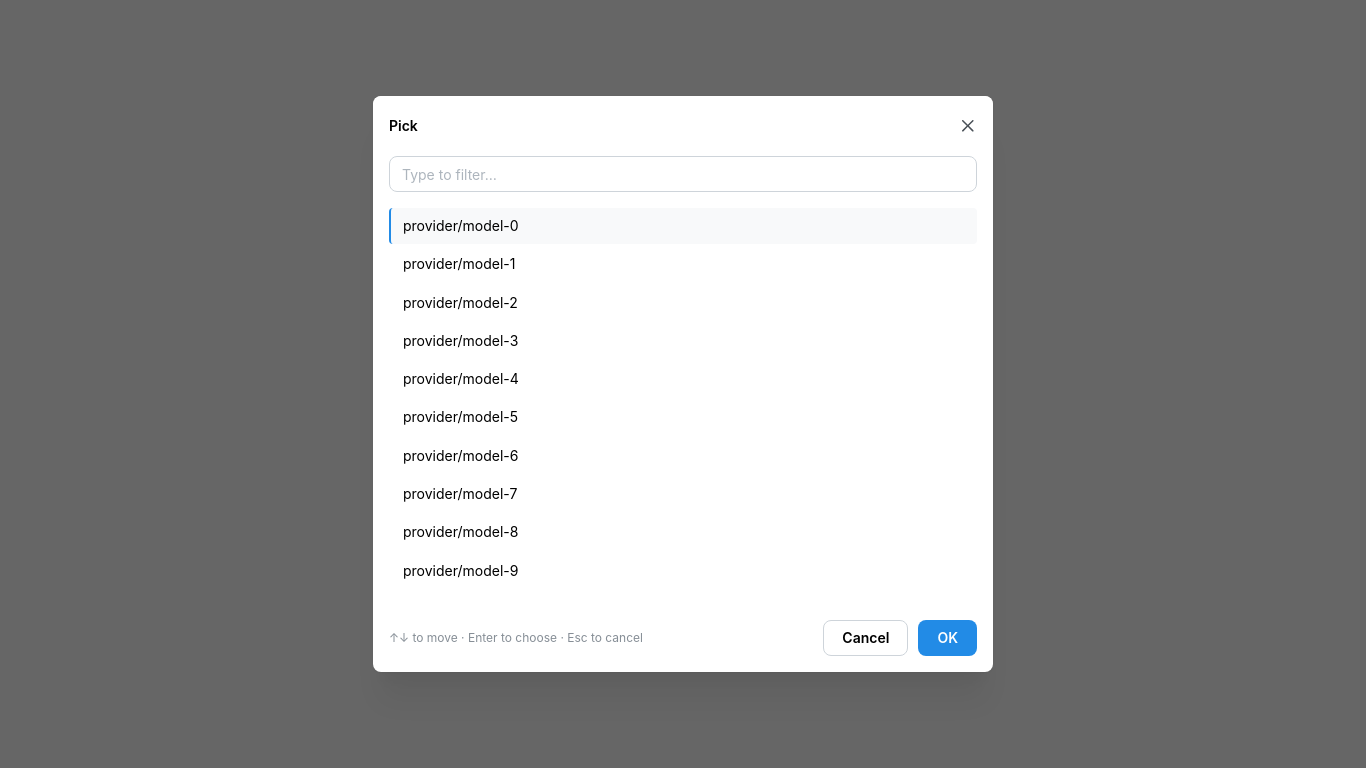
Test case: PromptModal option filter › reports when nothing matches and cannot submit
The image size is (1366, 768).
Type "nope" into the field named "Filter options" at (683,174), box x1=389 y1=156 x2=977 y2=192
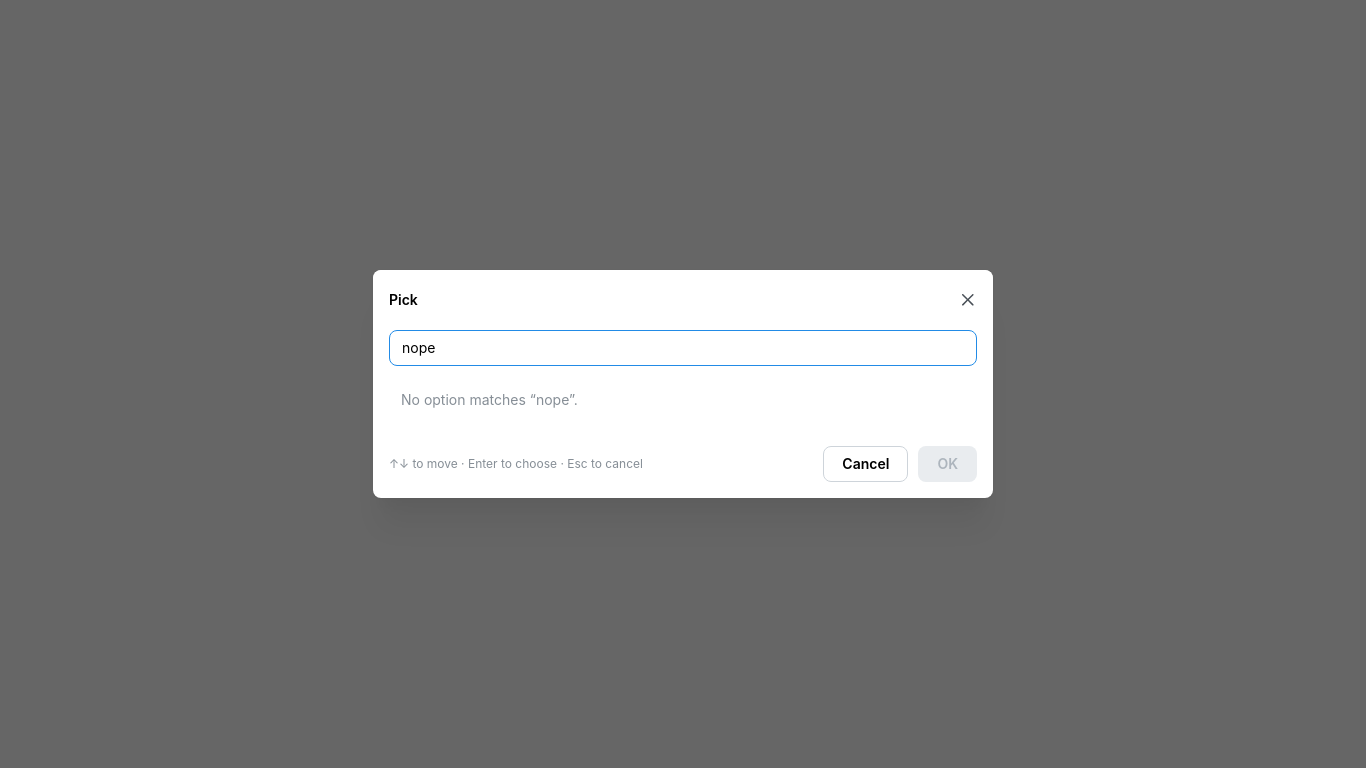
Check: no options are shown
Check: the text "No option matches “nope”." is shown, box x1=401 y1=391 x2=578 y2=408
Check: the button "OK" is disabled, box x1=918 y1=446 x2=977 y2=482
